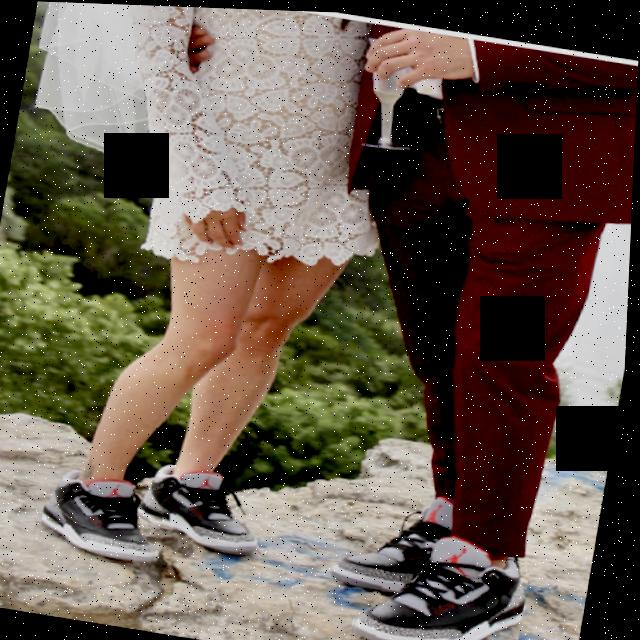shoe: (353, 529, 537, 640), (333, 479, 463, 594), (40, 464, 175, 569), (142, 466, 274, 555)
